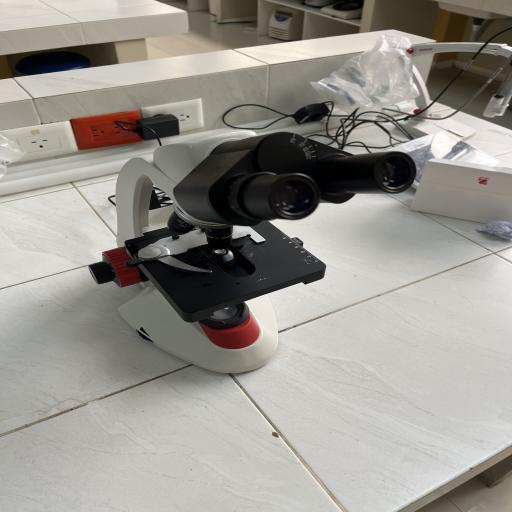Microscopio_Binocular: (80, 119, 434, 383)
